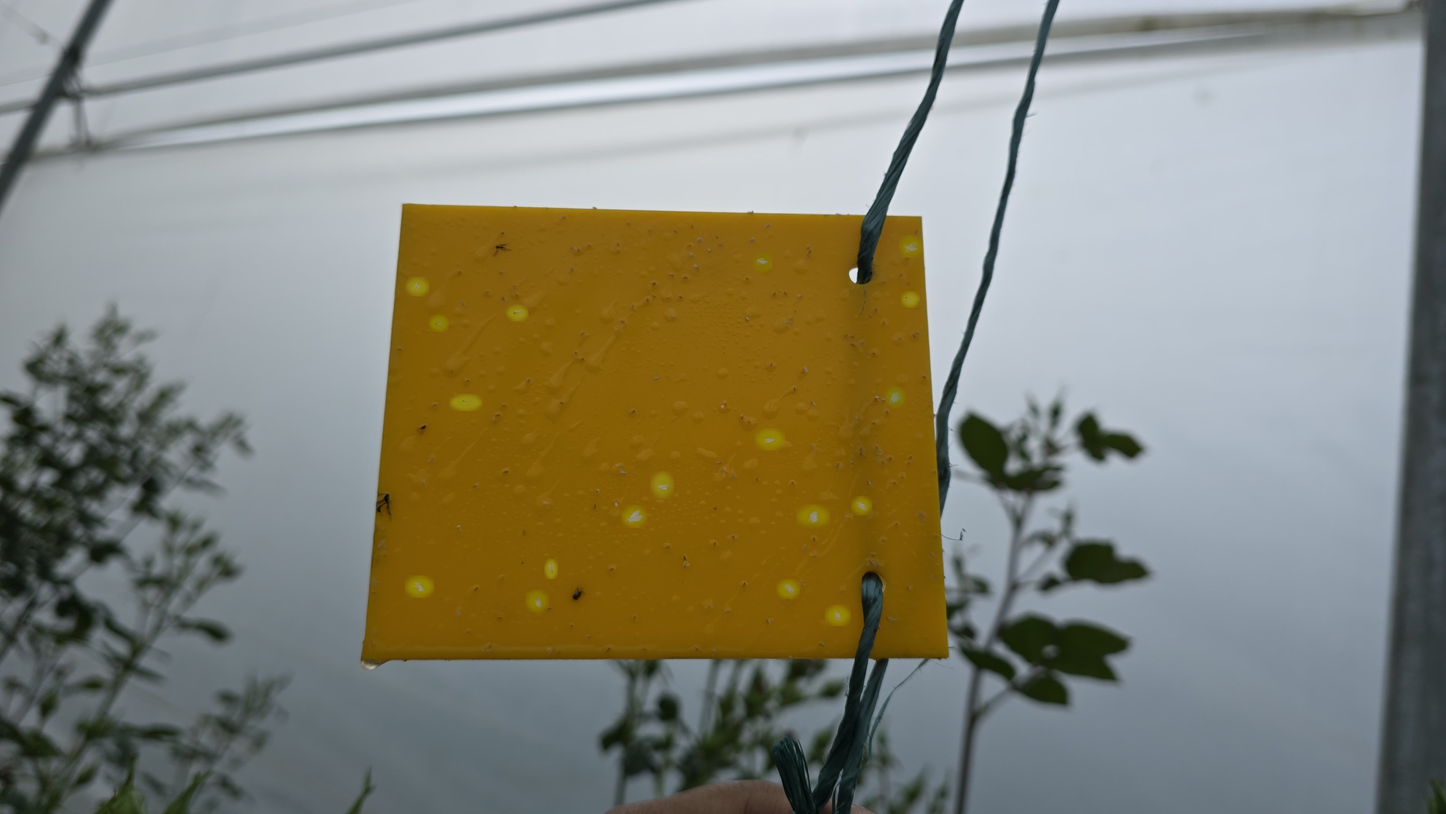WF: (801, 508, 825, 525), (759, 431, 780, 447), (654, 475, 670, 494), (409, 579, 429, 594), (625, 508, 643, 524), (829, 608, 847, 623), (529, 593, 545, 609), (902, 239, 919, 254), (454, 397, 477, 408), (887, 389, 902, 404), (780, 582, 796, 596), (409, 280, 425, 293), (756, 255, 769, 270), (854, 499, 869, 512), (509, 307, 525, 319), (432, 317, 445, 329), (903, 294, 917, 305), (546, 562, 556, 576), (683, 561, 692, 570), (619, 469, 628, 477), (801, 367, 811, 374), (455, 524, 463, 532), (720, 403, 729, 410), (810, 400, 818, 407), (865, 479, 872, 486), (688, 252, 695, 258), (694, 264, 700, 270), (707, 247, 712, 254), (796, 294, 803, 299), (697, 237, 702, 243), (615, 502, 619, 508)
